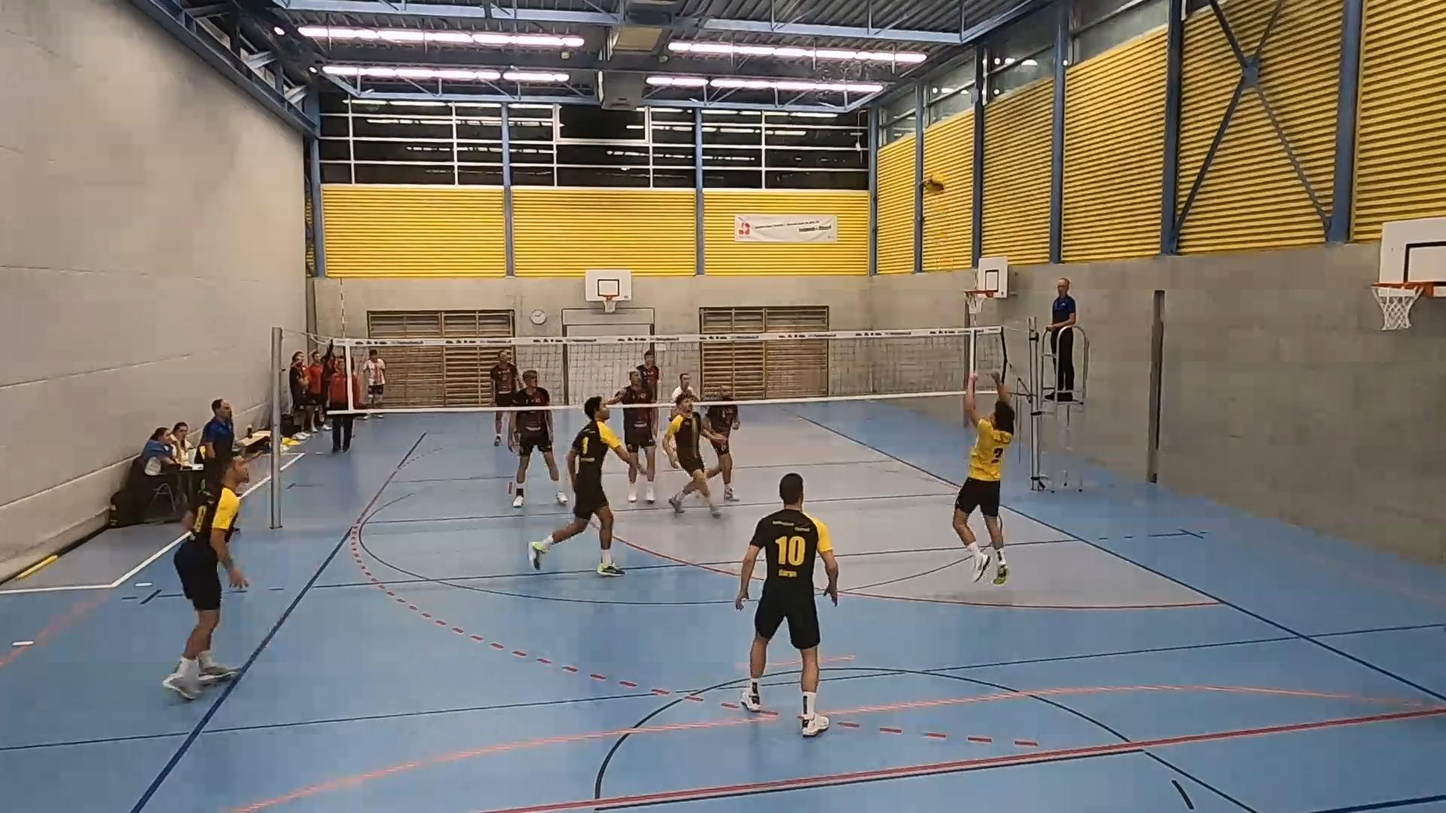ricezione: (947, 369, 1037, 582)
